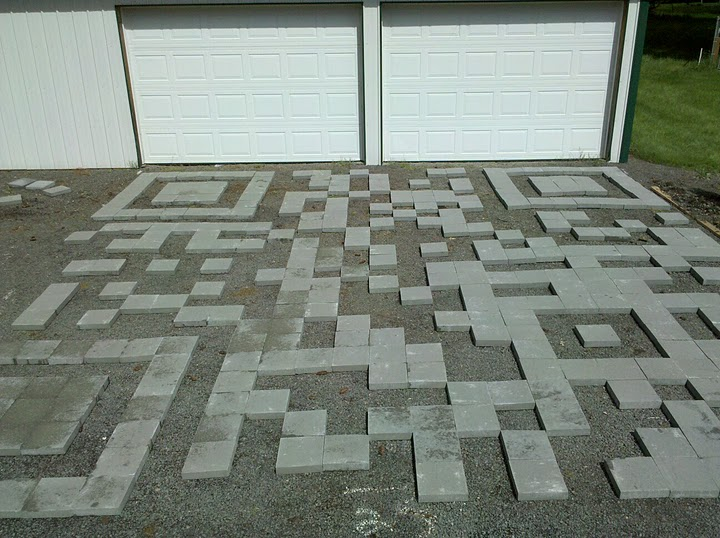QR-CODE: (0, 166, 719, 517)
